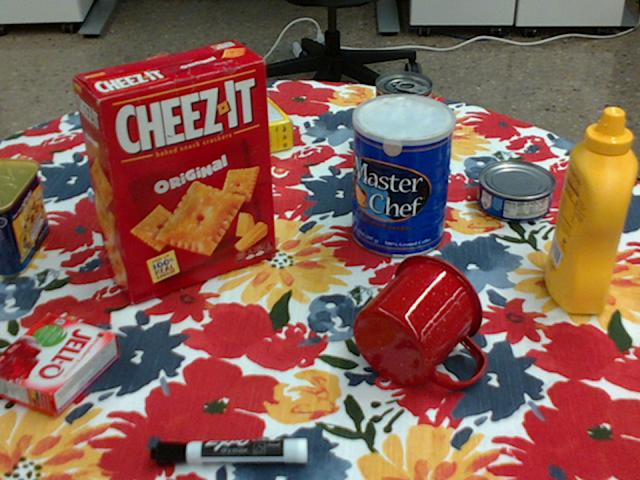cracker_box: (71, 41, 271, 302)
gelatin_box: (0, 313, 120, 416)
large_marker: (151, 438, 308, 464)
master_chef_can: (352, 94, 454, 259)
mug: (354, 254, 485, 387)
mustard_bottle: (542, 108, 634, 314)
potted_meat_can: (0, 157, 46, 277)
sugar_box: (132, 93, 291, 178)
tomato_soup_can: (373, 72, 431, 172)
tuna_fish_can: (477, 162, 555, 224)
